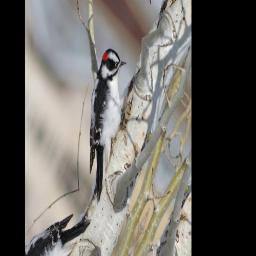Woodpecker: (62, 39, 147, 207)
